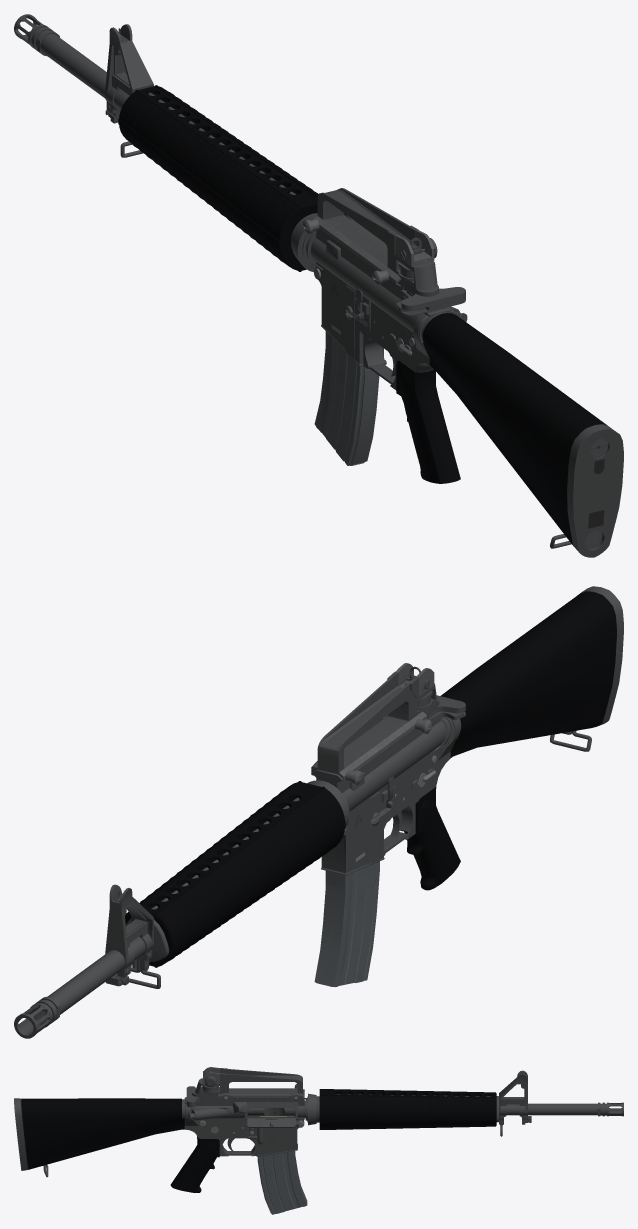
3 renders of one model, top to bottom at view 1: azimuth 30°, elevation 25°; view 2: azimuth 150°, elevation 25°; view 3: azimuth 270°, elevation 25°, orthographic. The views are drawn at different scales.
Visible parts, largest first — view 1: m16a4_body, mag, charge; view 2: m16a4_body, mag, charge; view 3: m16a4_body, mag, charge.
Boxes of the visible parts, x1,y1,x2,y2 form: m16a4_body: [14, 14, 623, 557]; mag: [314, 331, 379, 465]; charge: [396, 287, 465, 315]; m16a4_body: [14, 586, 623, 1038]; mag: [314, 861, 379, 987]; charge: [427, 695, 465, 721]; m16a4_body: [14, 1067, 623, 1192]; mag: [257, 1116, 307, 1214]; charge: [186, 1086, 295, 1115].
Bounding box in the file's own units: 0.067 × 0.2575 × 0.9982.
Materials: 3 (3 with a texture image).
